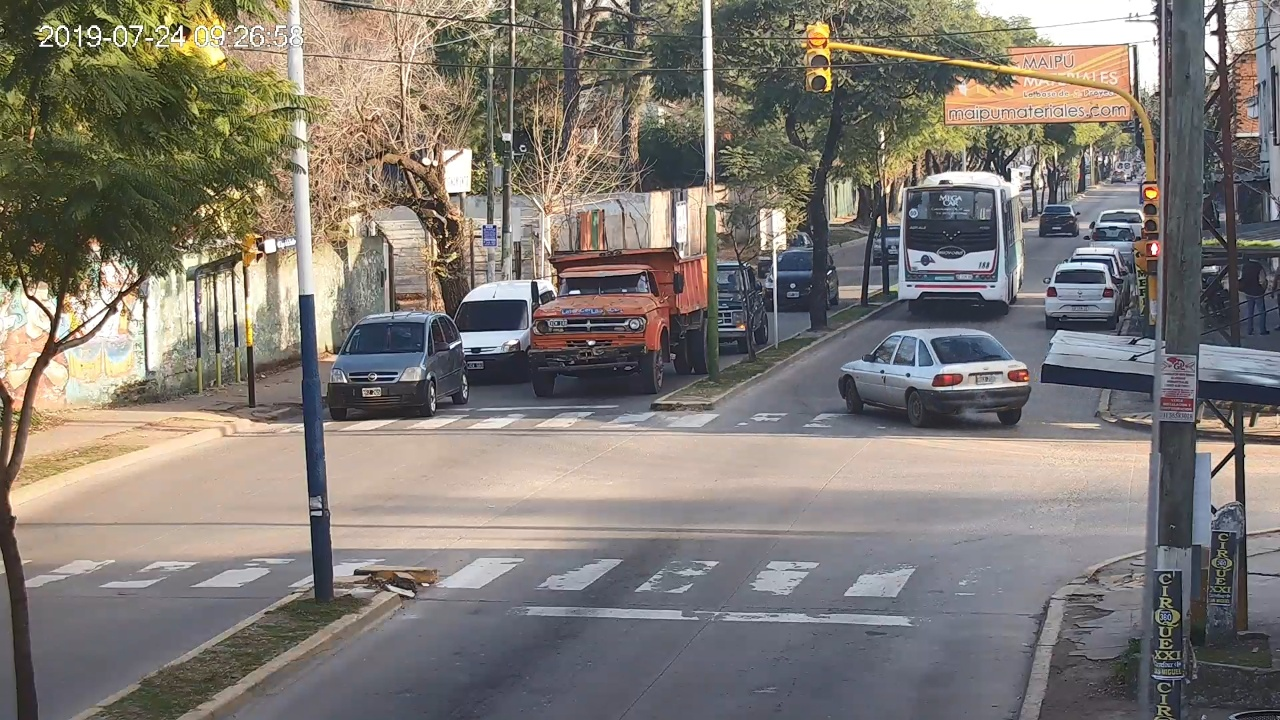bus: (898, 171, 1028, 314)
car: (838, 328, 1032, 428)
front car: (328, 312, 469, 416)
traffic light: (807, 26, 831, 92), (1143, 185, 1159, 233)
